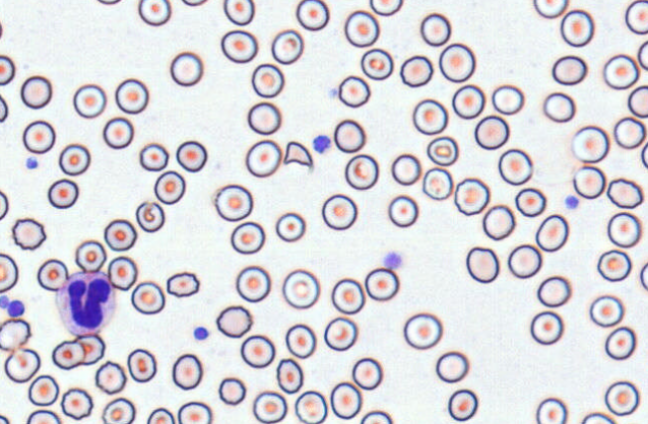GRAN: (57, 271, 115, 337)
PLT: (381, 251, 404, 271), (313, 134, 332, 154), (7, 300, 26, 319), (193, 326, 211, 343), (565, 195, 580, 209), (26, 157, 40, 170), (0, 295, 11, 309)
RBC: (281, 268, 320, 309), (570, 125, 609, 163), (438, 42, 475, 82), (403, 312, 442, 349), (213, 184, 252, 221), (245, 139, 281, 177), (321, 193, 357, 230), (602, 53, 639, 89), (454, 177, 489, 215), (344, 9, 379, 47), (4, 347, 40, 383), (497, 148, 532, 185), (235, 265, 270, 302), (412, 98, 447, 135), (560, 9, 594, 47), (535, 213, 568, 252), (604, 380, 639, 416), (215, 304, 252, 338), (465, 246, 499, 283), (331, 277, 365, 314), (344, 153, 378, 190), (220, 29, 257, 63), (329, 381, 362, 419), (507, 243, 542, 278), (474, 114, 509, 149), (607, 211, 641, 247), (114, 78, 148, 114), (240, 334, 275, 368), (323, 316, 357, 351), (364, 267, 399, 301), (451, 84, 485, 119), (169, 51, 203, 86), (72, 83, 106, 118), (482, 204, 515, 240), (572, 165, 606, 199), (247, 101, 281, 135), (11, 217, 46, 250), (130, 281, 165, 314), (252, 390, 287, 423), (530, 310, 563, 345), (251, 63, 284, 98), (589, 294, 624, 327), (230, 221, 265, 254), (271, 28, 303, 64), (171, 353, 202, 390), (606, 177, 643, 208), (103, 218, 137, 251), (435, 350, 469, 383), (399, 54, 433, 87), (22, 119, 55, 153), (536, 275, 571, 307), (596, 249, 631, 281), (551, 54, 587, 85), (60, 387, 93, 420), (294, 390, 327, 423), (94, 360, 126, 394), (153, 170, 185, 204), (604, 326, 636, 360), (419, 12, 451, 46), (20, 75, 52, 109), (333, 118, 365, 152), (285, 323, 316, 358), (74, 239, 106, 272), (36, 258, 68, 291), (613, 116, 645, 149), (360, 48, 393, 80), (107, 255, 137, 290), (27, 374, 59, 406), (58, 143, 90, 175), (338, 75, 370, 107), (175, 140, 207, 172), (0, 318, 31, 351), (447, 388, 478, 421), (422, 167, 453, 200), (351, 357, 382, 390), (102, 116, 133, 149), (387, 194, 418, 227), (491, 84, 524, 115), (295, 0, 329, 30), (275, 358, 303, 394), (426, 135, 458, 166), (543, 91, 575, 122), (51, 340, 84, 370), (127, 348, 156, 382), (75, 333, 105, 365), (514, 187, 546, 217), (391, 153, 421, 185), (47, 178, 78, 208), (275, 211, 305, 242), (135, 200, 164, 232), (101, 397, 135, 423), (139, 142, 169, 171), (166, 271, 199, 297), (535, 397, 567, 423), (138, 0, 171, 25), (218, 377, 246, 405), (223, 0, 254, 25), (177, 401, 212, 423), (625, 0, 647, 34), (0, 252, 18, 293), (627, 85, 647, 117), (533, 0, 568, 18), (369, 0, 403, 16), (26, 409, 61, 423), (0, 54, 15, 85), (146, 407, 175, 423), (580, 411, 616, 423), (360, 410, 392, 423), (637, 40, 647, 70), (639, 261, 648, 290), (0, 190, 8, 220), (0, 93, 8, 122), (641, 140, 648, 169), (181, 0, 208, 6), (95, 0, 122, 5), (0, 414, 9, 424), (0, 18, 3, 40)
Schistocyte: (284, 142, 315, 168)
